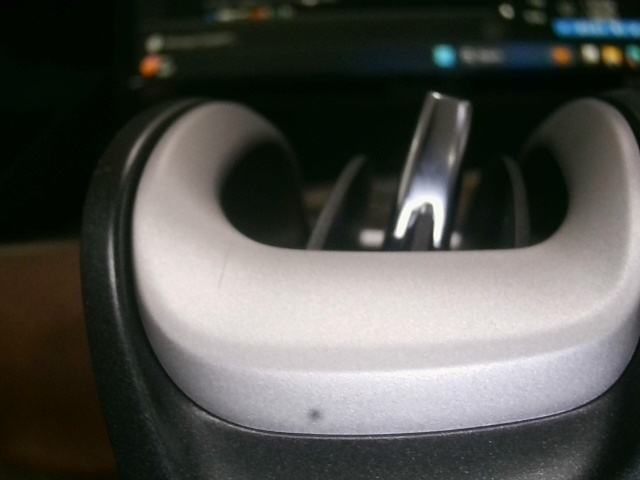NG: (208, 238, 240, 295), (94, 158, 113, 194)
